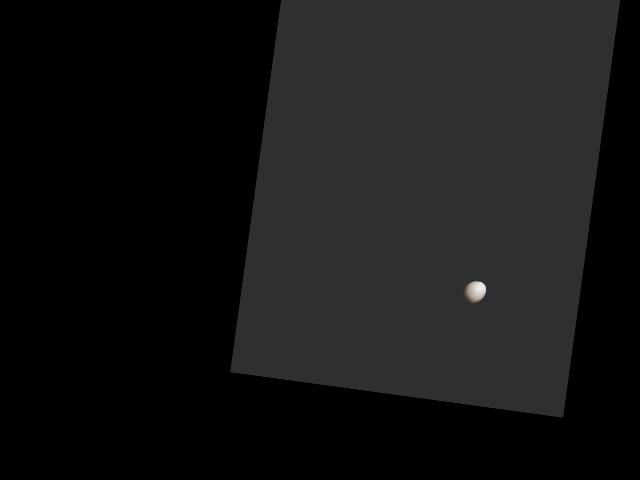egg: (461, 279, 486, 305)
